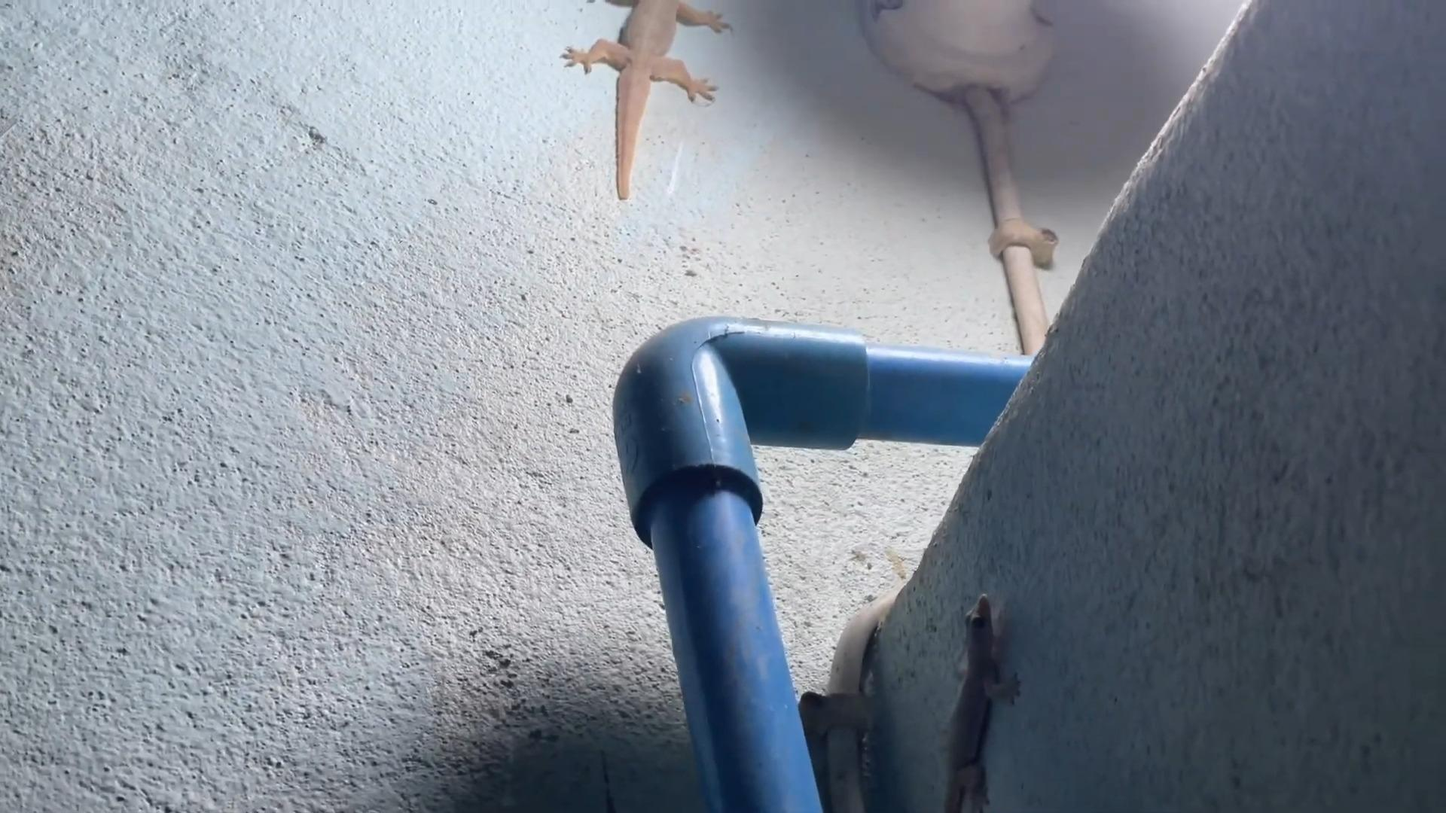lizard: (558, 0, 731, 200)
